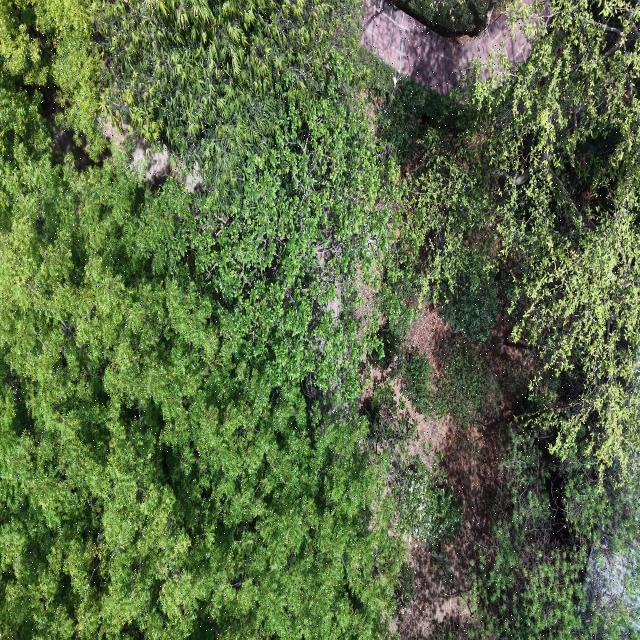DRY_AREA: (393, 309, 531, 639), (393, 314, 529, 639), (393, 379, 508, 639), (391, 377, 499, 639), (399, 418, 503, 639), (392, 454, 486, 639), (361, 0, 539, 94), (43, 92, 202, 191), (43, 92, 201, 191), (44, 93, 202, 191), (398, 531, 475, 639), (475, 301, 536, 417), (389, 378, 454, 465), (42, 91, 110, 170), (394, 381, 455, 465), (130, 136, 202, 191), (131, 137, 202, 191), (49, 113, 110, 169), (405, 305, 447, 367), (130, 138, 172, 188)
VEGETATION_TREE: (0, 0, 639, 639), (0, 2, 401, 639), (0, 146, 399, 637), (4, 1, 397, 398), (397, 0, 639, 636), (448, 1, 639, 636), (405, 1, 639, 476), (494, 1, 639, 478), (96, 0, 363, 224), (456, 429, 639, 639), (0, 0, 106, 160), (365, 378, 462, 545), (398, 336, 499, 429), (390, 458, 462, 545), (436, 336, 499, 428), (440, 276, 498, 340), (403, 352, 446, 417), (399, 0, 486, 31), (372, 328, 403, 370)
